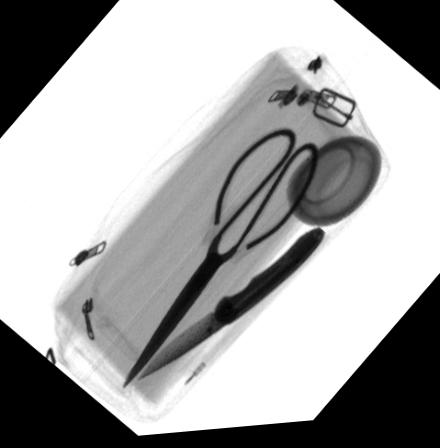Knife: (135, 230, 325, 382)
Scissors: (123, 131, 318, 389)
